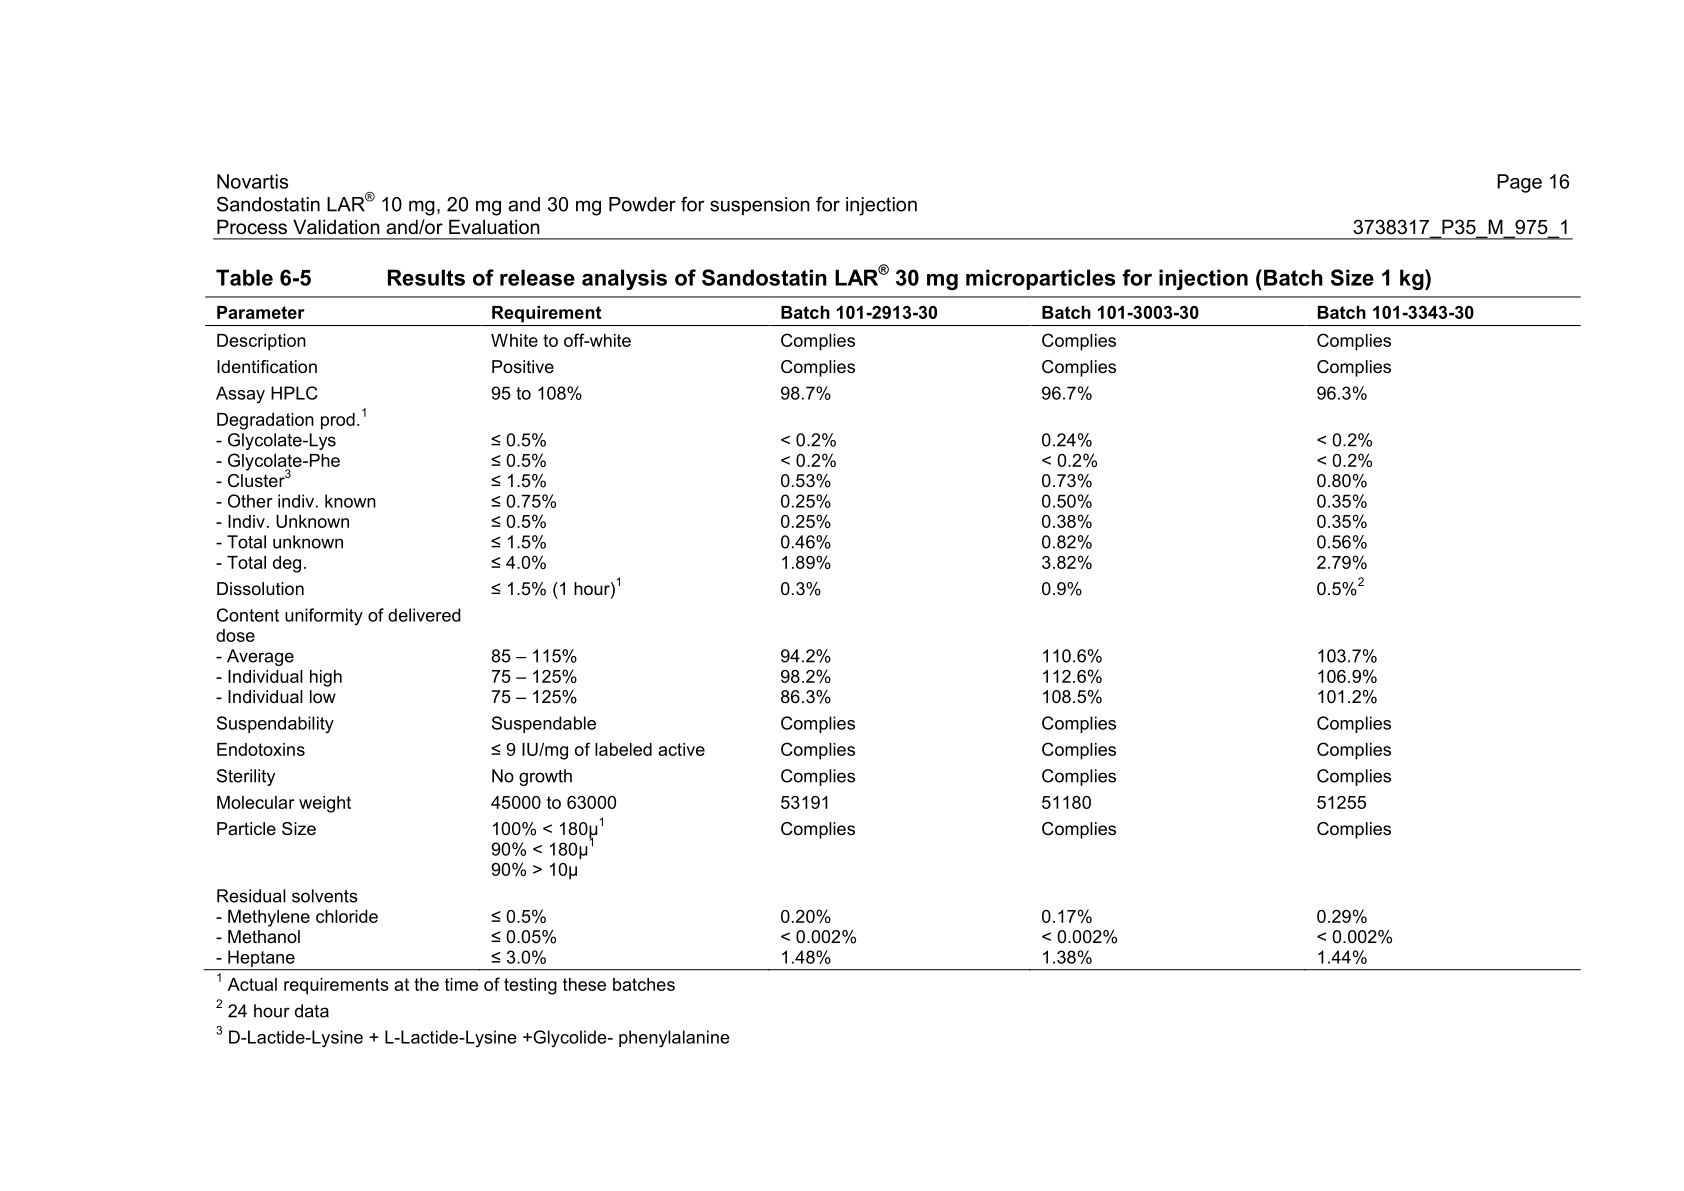partial_lined: (202, 294, 1580, 974)
